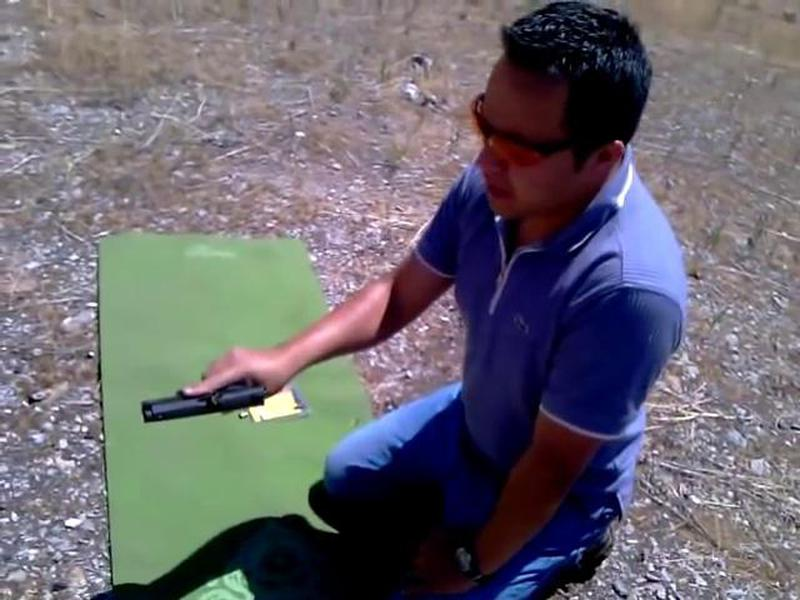Pistola: (120, 357, 271, 439)
